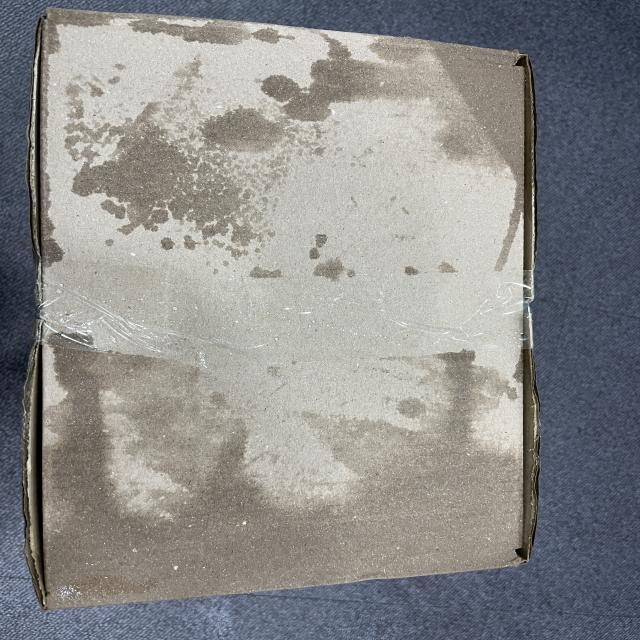wet: (41, 351, 530, 592), (66, 105, 312, 251), (382, 33, 563, 184)
